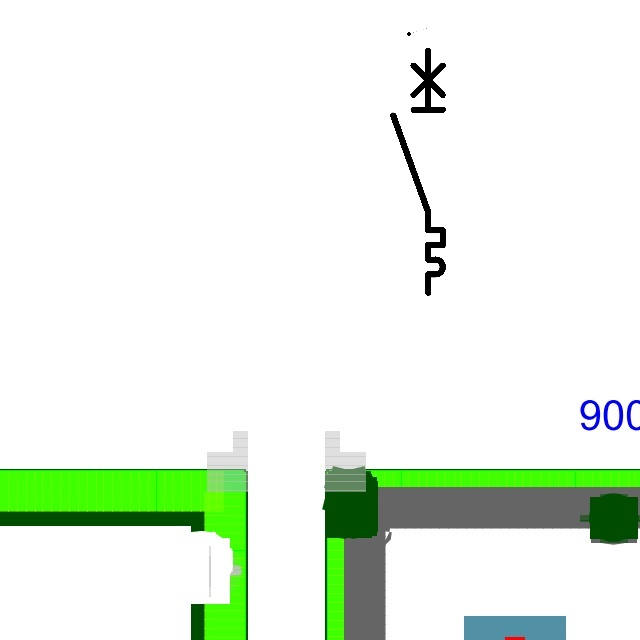interruptor_termomagnetico: (387, 44, 449, 298)
